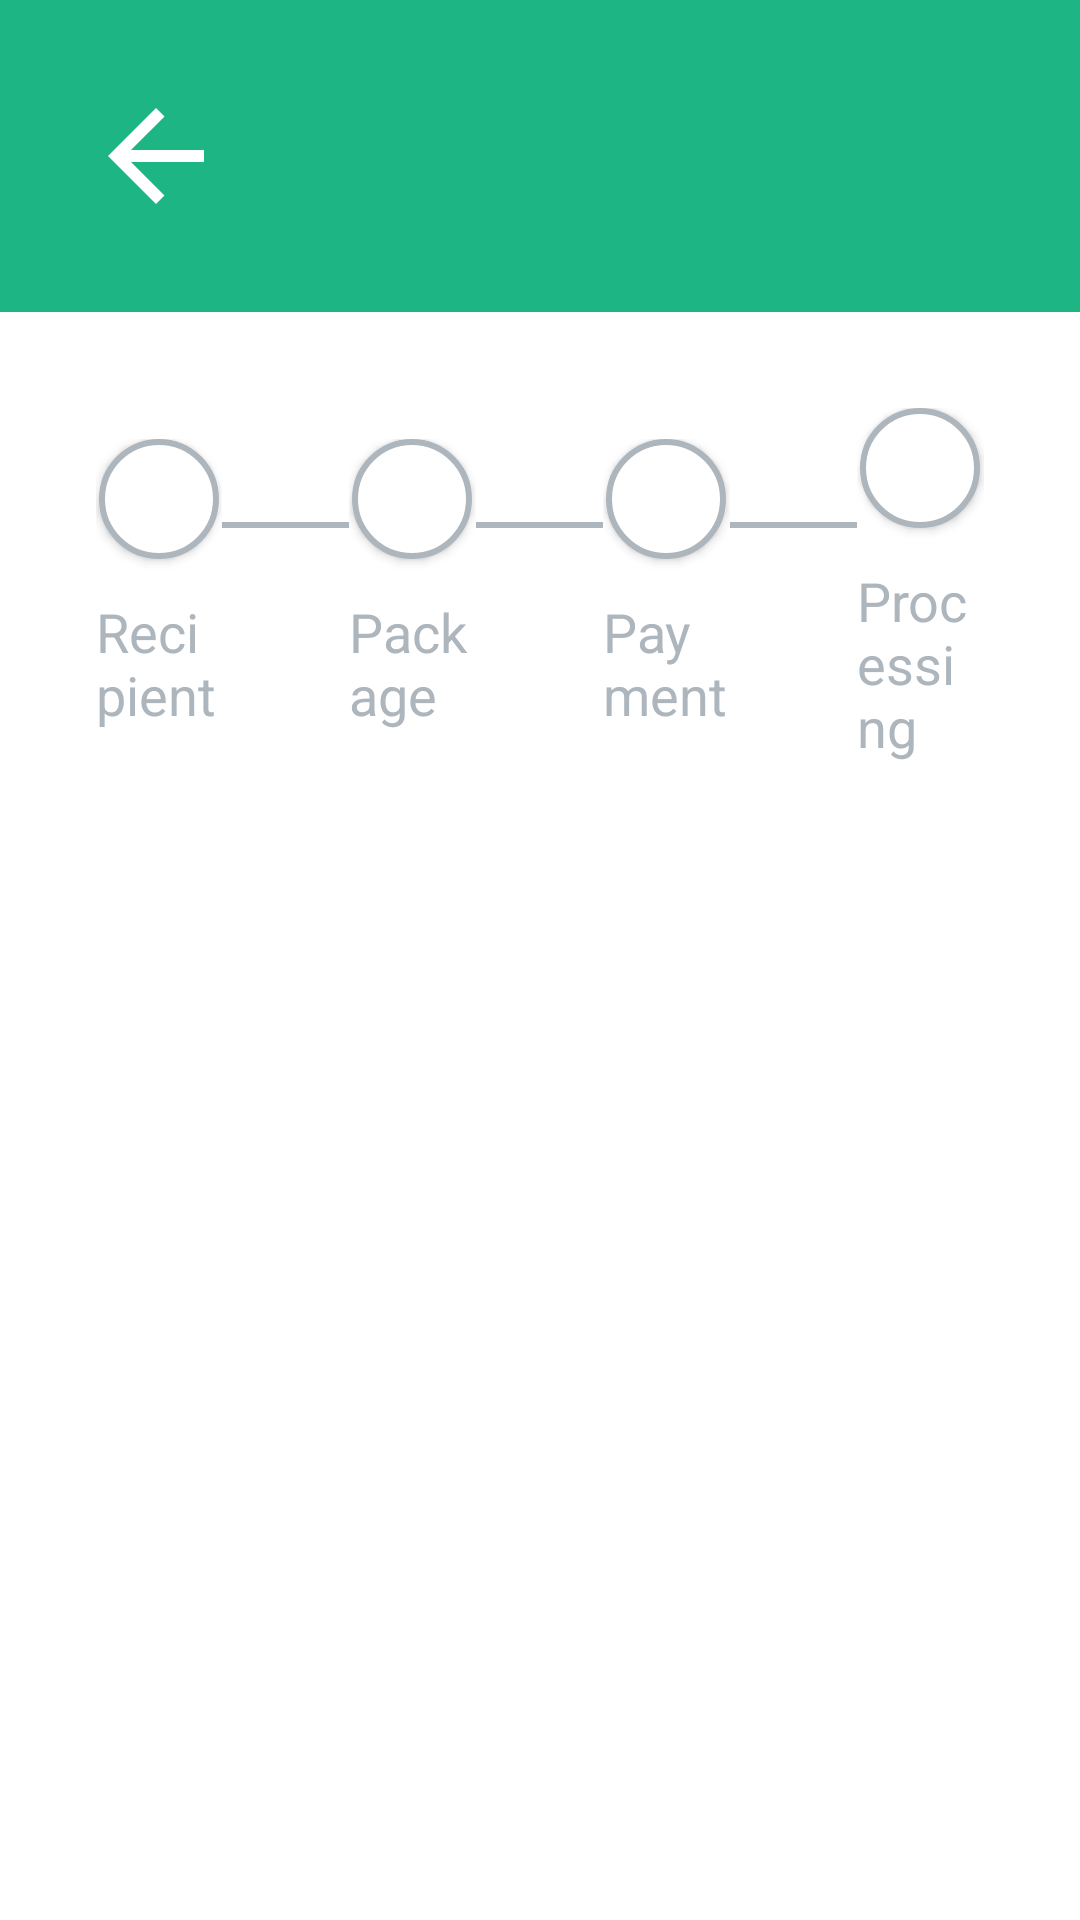

Locate icon controls on the screen. Image size 1080 x 1920, boxes as BBox(x1, y1, x2, y2).
Go back: BBox(108, 108, 204, 204)
